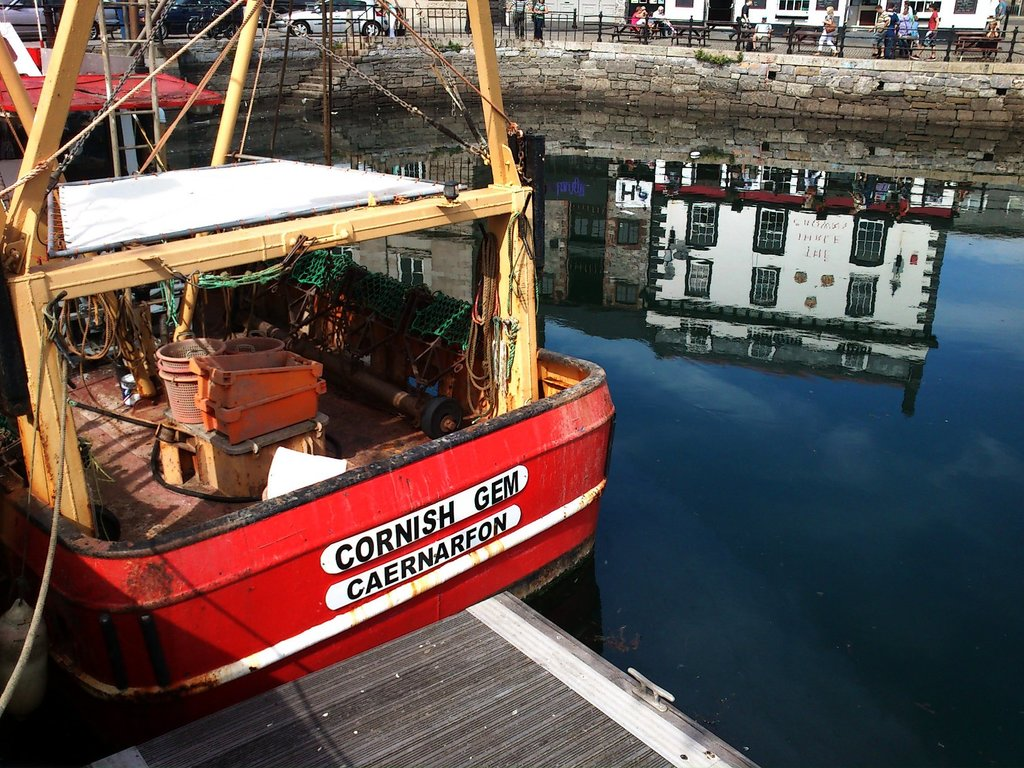boat: (1, 43, 649, 713)
